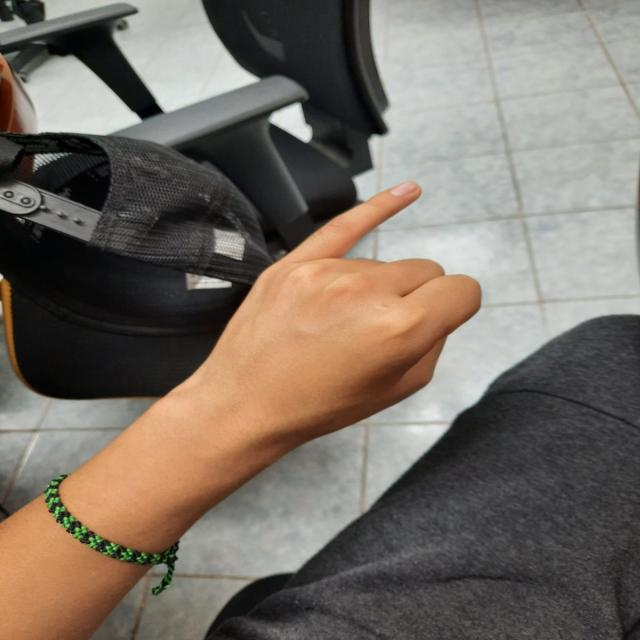Z: (145, 175, 522, 474)
